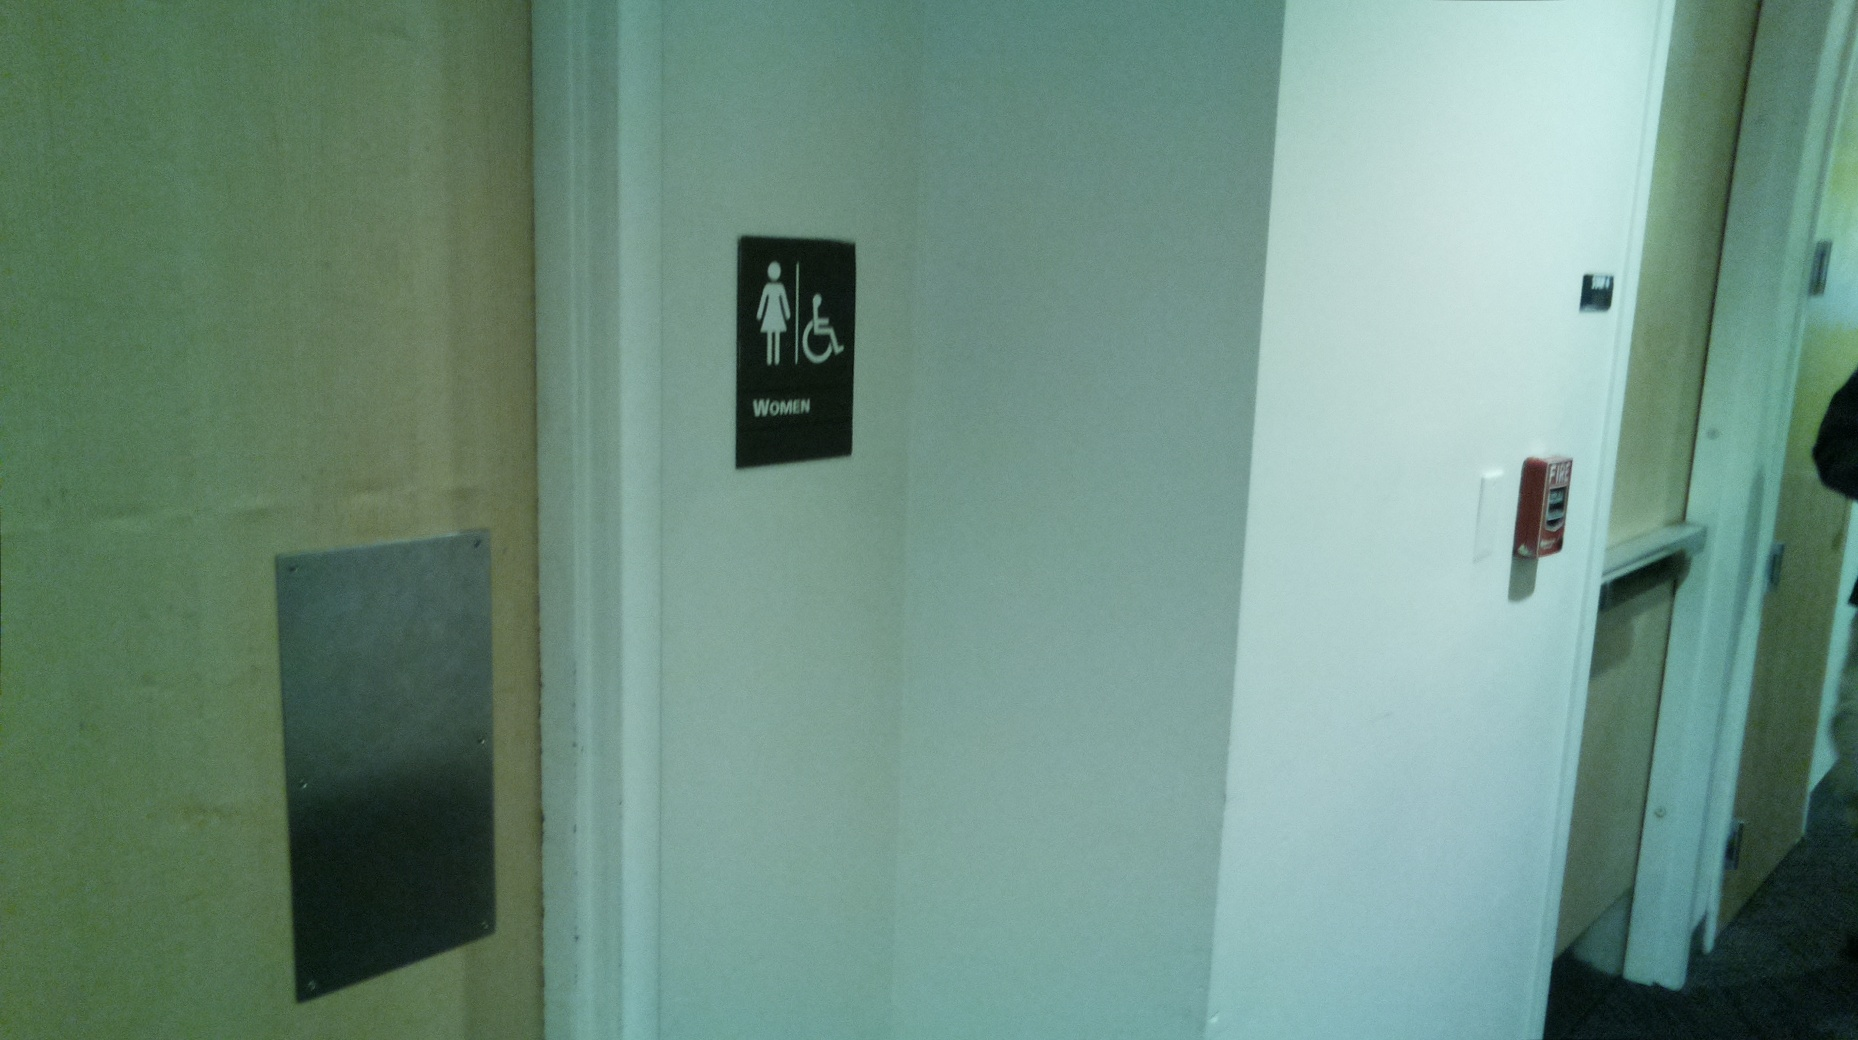bathroom sign: (727, 227, 864, 475)
